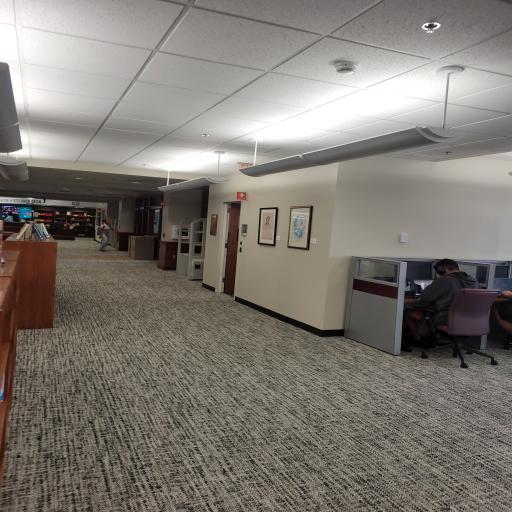water sprinkler: (418, 20, 450, 42)
